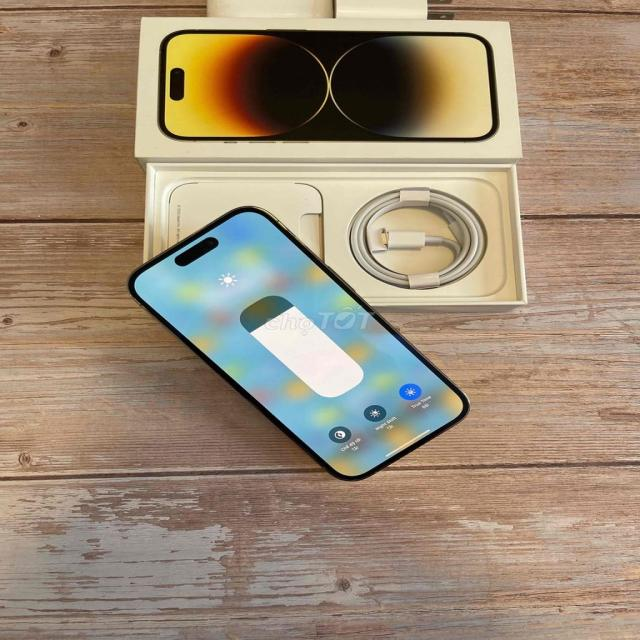gen_14: (121, 196, 477, 480)
